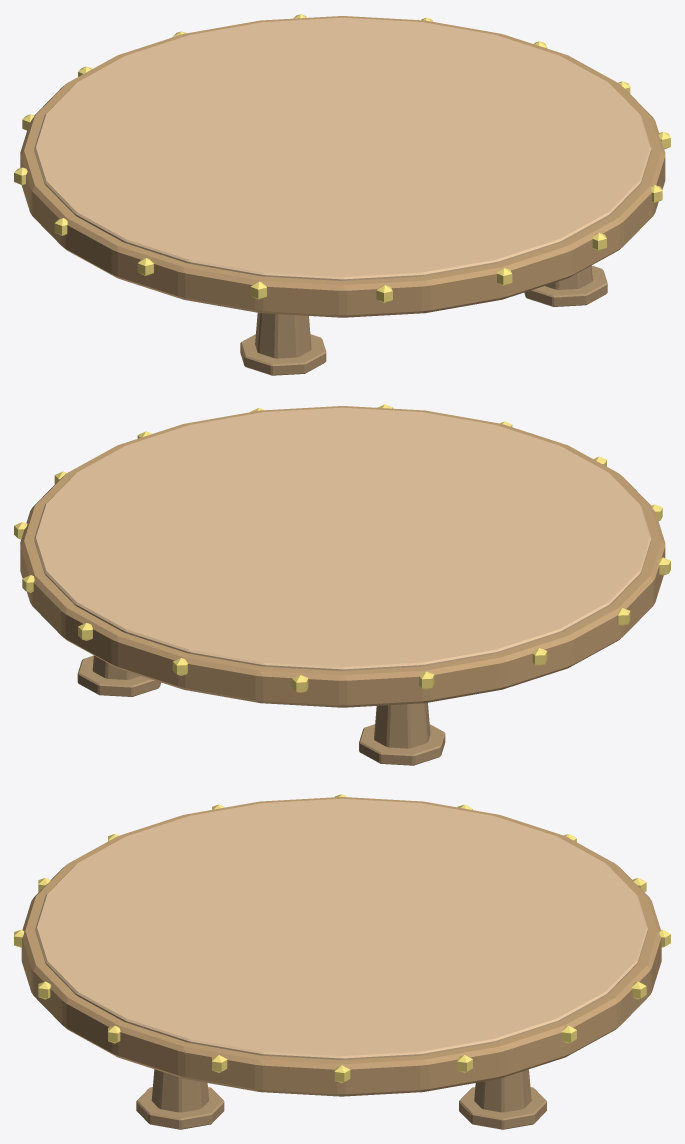
File: CF_Table.fbx
3 views of the same model, one above another, from view 1: azimuth 30°, elevation 25°; view 2: azimuth 150°, elevation 25°; view 3: azimuth 270°, elevation 25° (orthographic).
Visible parts, largest first — view 1: CF_Table_Top, CF_Table_Rim, CF_Table_Legs, CF_Table_Trim; view 2: CF_Table_Top, CF_Table_Rim, CF_Table_Legs, CF_Table_Trim; view 3: CF_Table_Top, CF_Table_Rim, CF_Table_Legs, CF_Table_Trim.
Part boxes in pixels (x1,y1,x2,y2): CF_Table_Top: (34, 17, 651, 280); CF_Table_Rim: (20, 16, 665, 317); CF_Table_Legs: (240, 265, 607, 375); CF_Table_Trim: (14, 14, 670, 302); CF_Table_Top: (34, 407, 651, 670); CF_Table_Rim: (20, 406, 665, 707); CF_Table_Legs: (77, 655, 445, 765); CF_Table_Trim: (14, 404, 670, 692); CF_Table_Top: (35, 798, 647, 1059); CF_Table_Rim: (21, 797, 661, 1096); CF_Table_Legs: (136, 1069, 546, 1129); CF_Table_Trim: (14, 794, 670, 1083).
Size of the model in its own units: 18.46 by 3.6 by 18.44.
